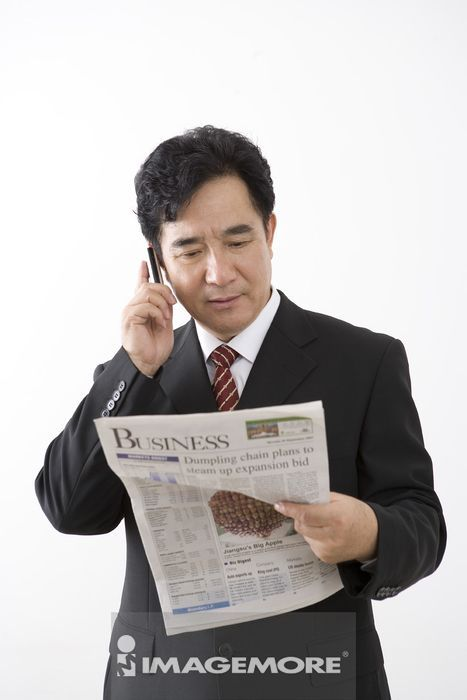phone: (146, 244, 166, 296)
talk: (116, 215, 265, 361)
